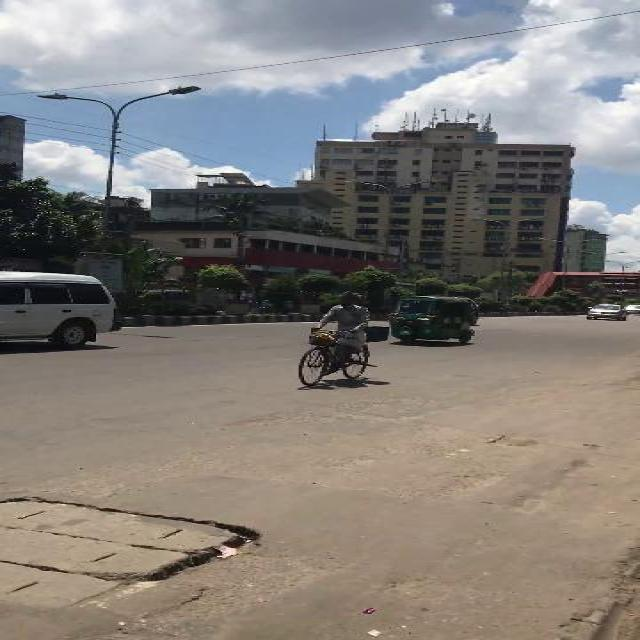car: (585, 302, 627, 321)
motorcycle: (387, 294, 473, 345)
truck: (2, 268, 121, 347)
